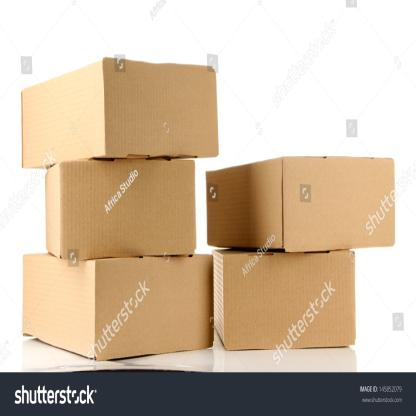box: (60, 158, 196, 258), (224, 254, 355, 352), (94, 256, 214, 362), (102, 56, 218, 157), (282, 155, 396, 252)
